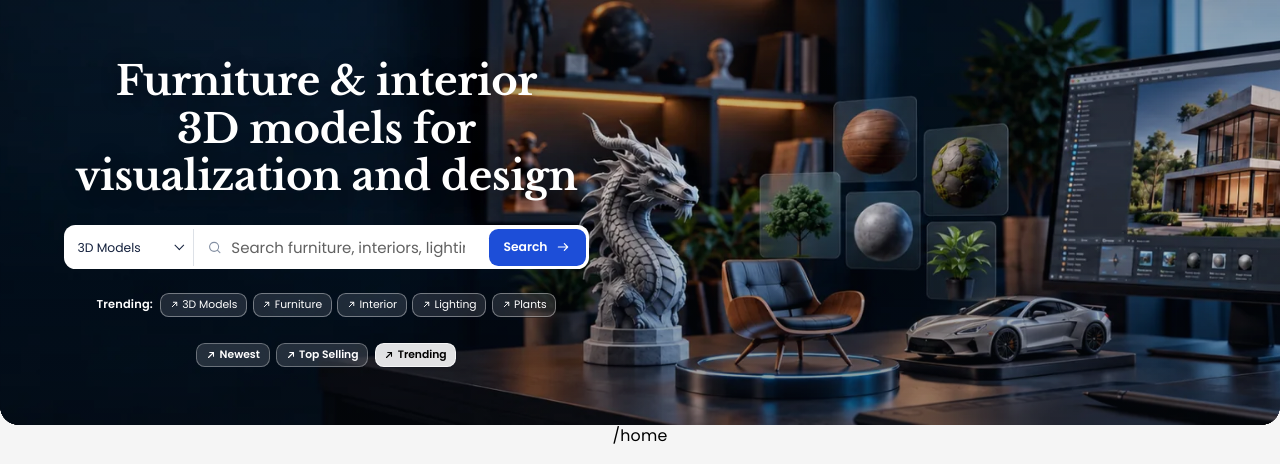
Test case: MarketplaceHero › navigates when clicking sort pills and updates active state
Click the button "Top Selling": [322, 355] box [276,342,368,367]
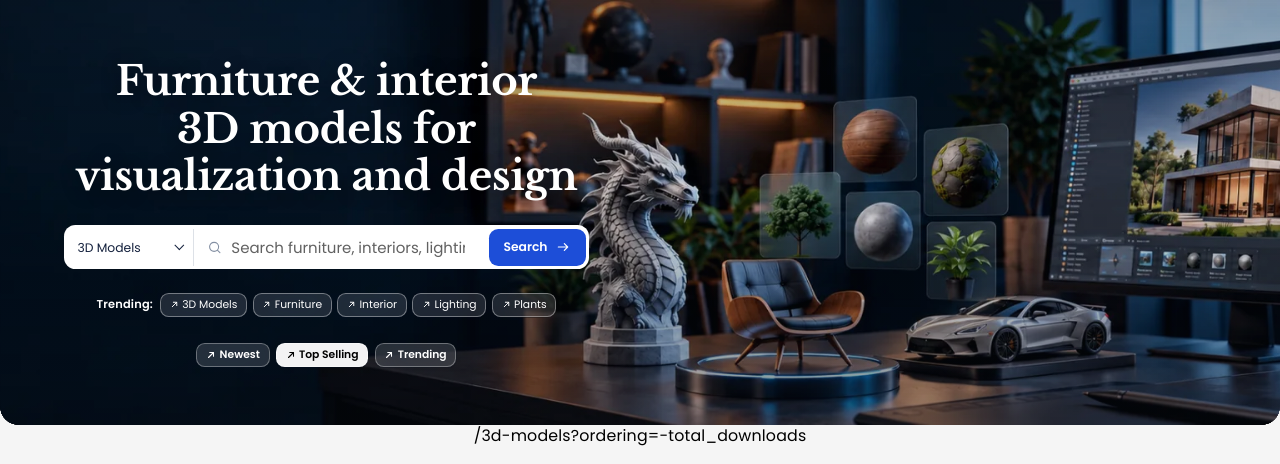
Expected: the text with test id "location-probe" reads "/3d-models?ordering=-total_downloads", [474,424,806,447]
Click the button "Newest": [233, 355] box [196,342,270,367]
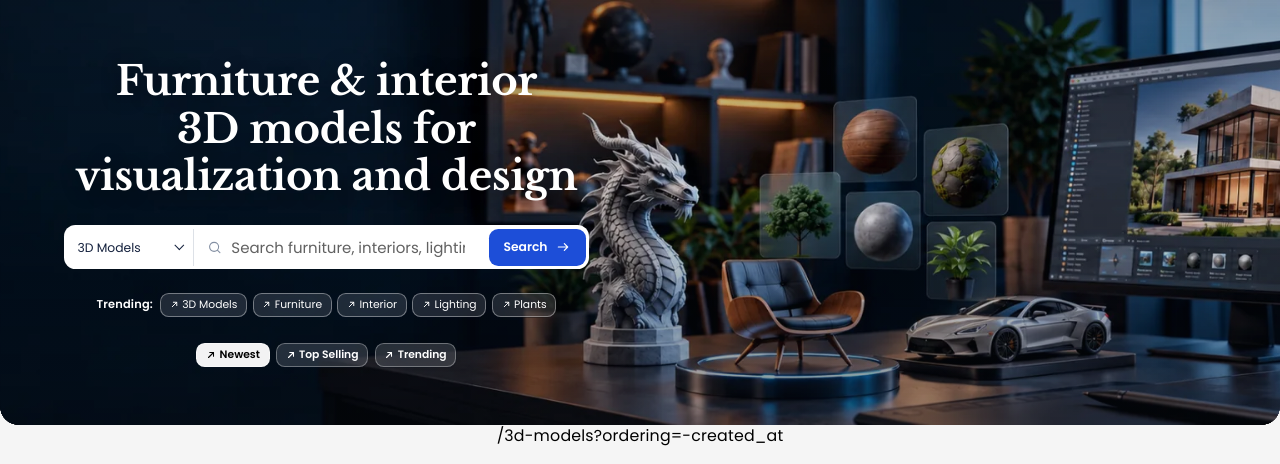
Expected: the text with test id "location-probe" reads "/3d-models?ordering=-created_at", [497,424,783,447]
